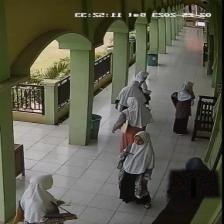Cadar_Niqab: (167, 155, 220, 197)
